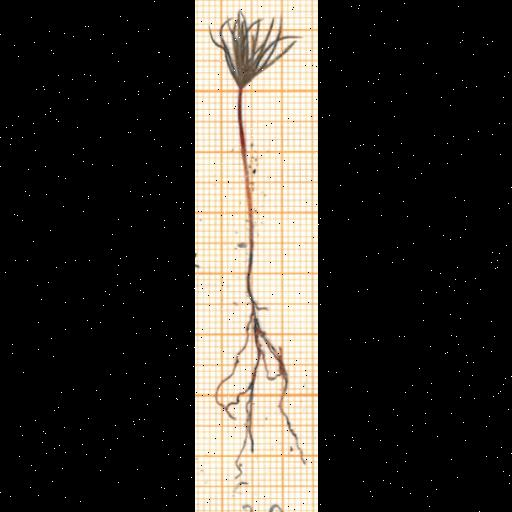flowerPinus: (215, 11, 298, 89)
rootPinus: (213, 305, 304, 476)
stemPinus: (237, 89, 252, 244)
